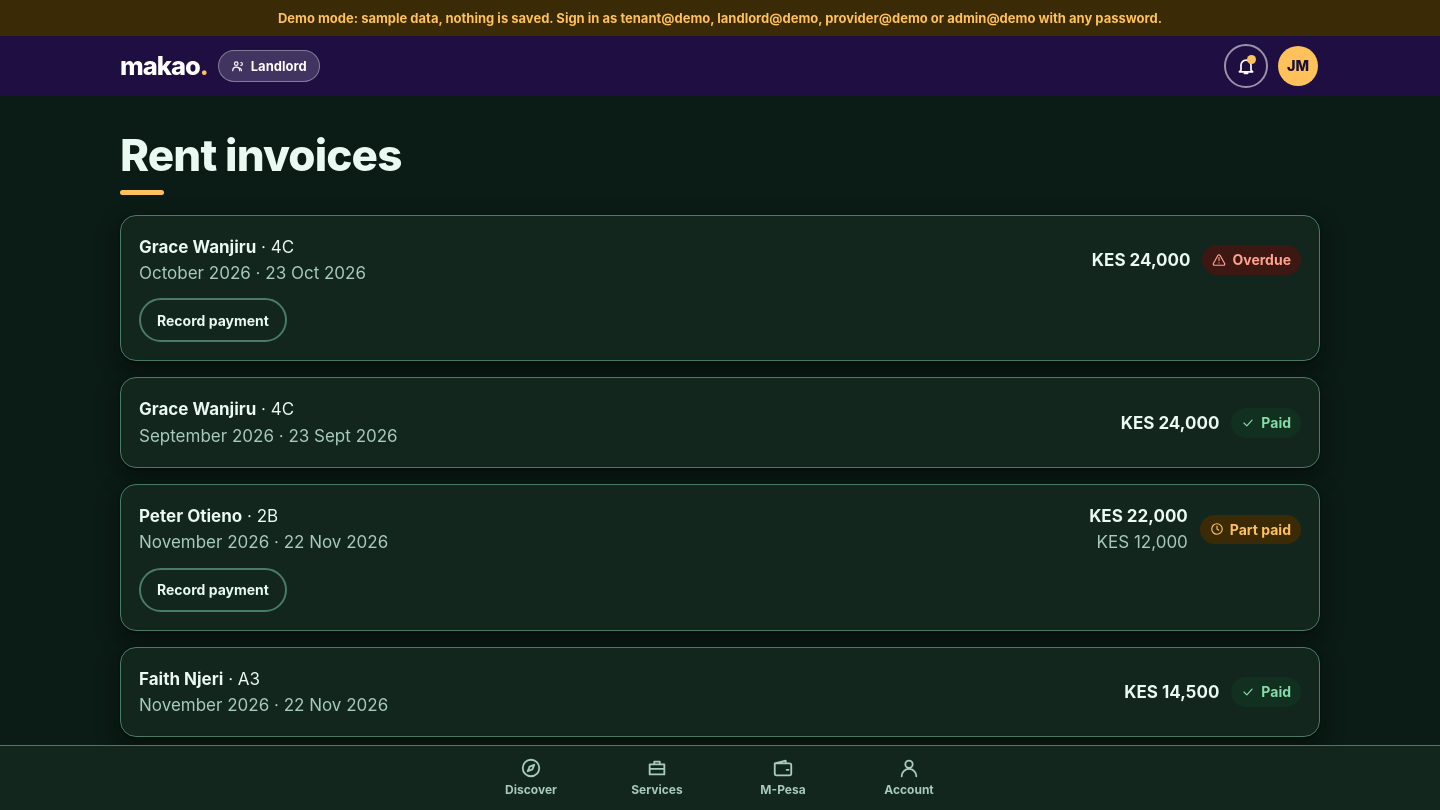
Test: landlord screens › rent page: recording a payment uses labelled fields and updates the status
The image size is (1440, 810).
Click the button "Record payment" below "October 2026" at (213, 320), box left=139, top=298, right=287, bottom=342
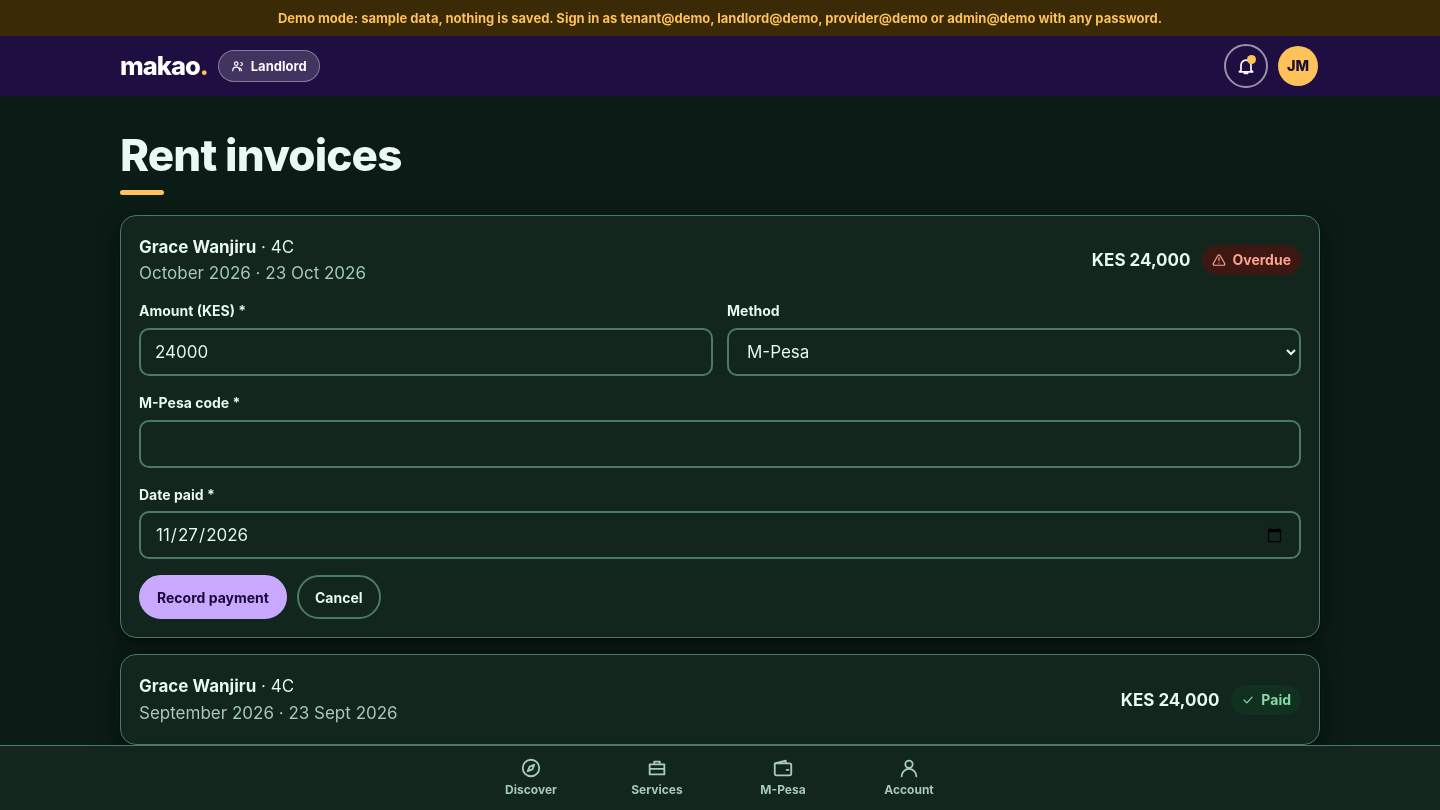
Check: the number field labelled "Amount (KES) *" is shown, box left=139, top=328, right=713, bottom=376
Check: the field labelled "M-Pesa code *" is shown, box left=139, top=420, right=1301, bottom=468
